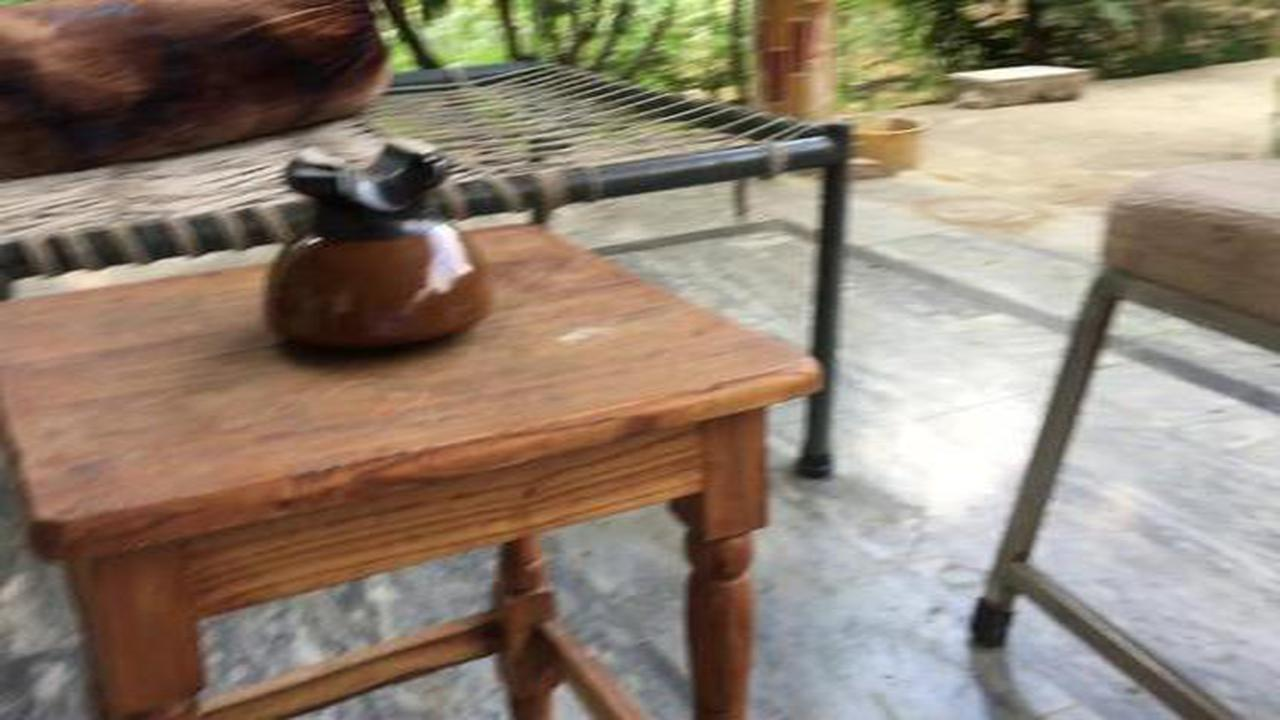insulator_pin: (244, 125, 505, 374)
